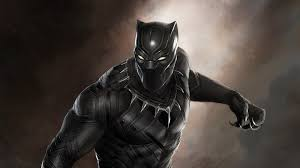Object-Detection: (0, 1, 300, 168)
